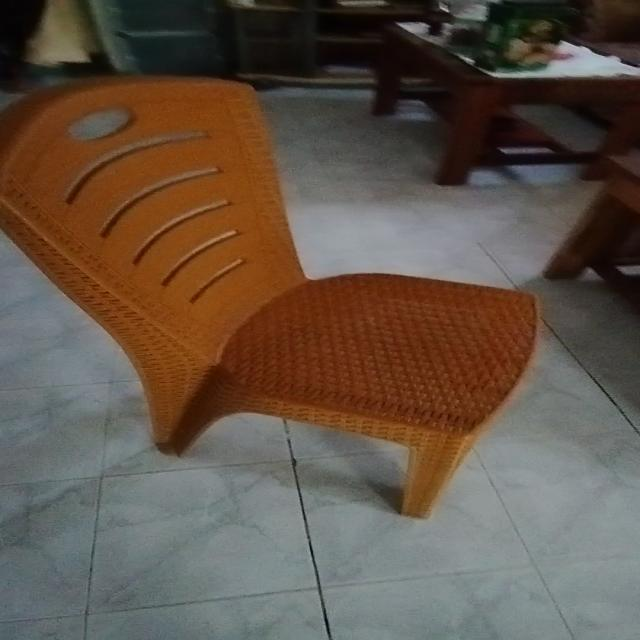chair: (2, 45, 640, 583)
